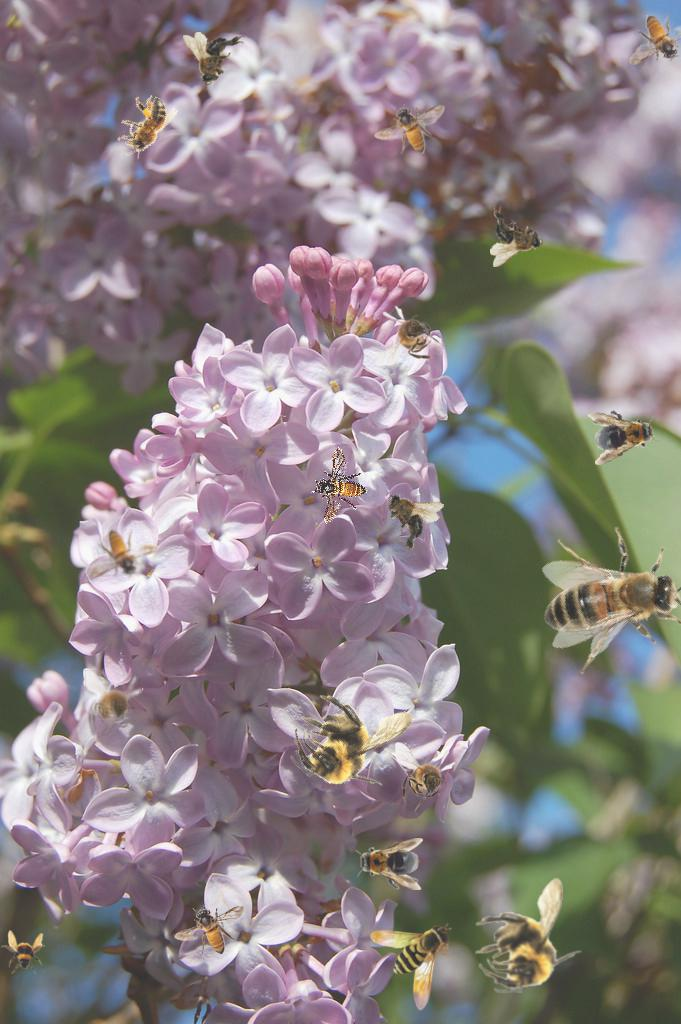Bee: (502, 480, 681, 714), (274, 660, 431, 817), (475, 878, 582, 993), (370, 923, 452, 1011), (298, 446, 380, 533), (368, 476, 447, 558), (108, 87, 180, 168), (586, 402, 662, 466), (395, 742, 456, 812), (83, 668, 144, 738), (375, 305, 445, 366), (88, 529, 159, 579), (174, 905, 245, 955), (374, 104, 445, 154), (355, 838, 423, 890), (490, 205, 543, 267), (183, 32, 245, 85), (625, 10, 681, 67), (1, 930, 45, 974)
